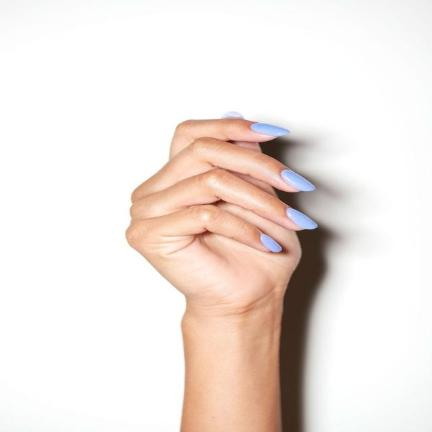Nail: (281, 169, 316, 191), (286, 207, 318, 230), (250, 122, 290, 136), (260, 233, 282, 253)
